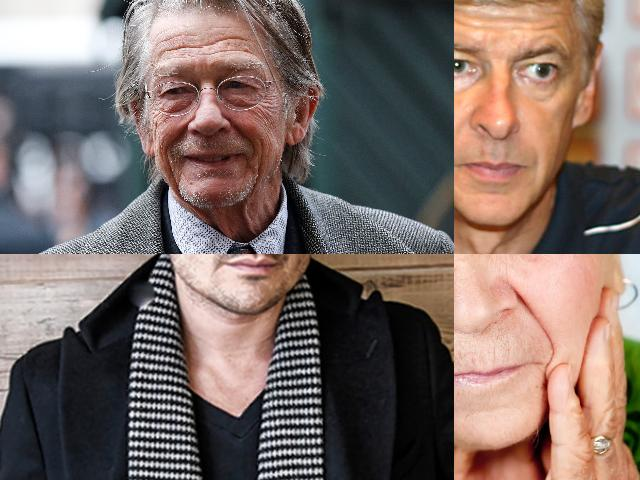bunny_line: (478, 254, 501, 263)
forehead: (487, 5, 533, 29), (530, 12, 564, 36), (221, 31, 249, 57), (157, 30, 180, 57), (454, 11, 479, 31), (190, 34, 216, 52)
gummy_smile: (516, 292, 552, 346), (232, 115, 254, 142), (170, 120, 190, 146)
masseter: (148, 103, 166, 138), (258, 98, 280, 126), (252, 154, 268, 192), (163, 152, 181, 182)
